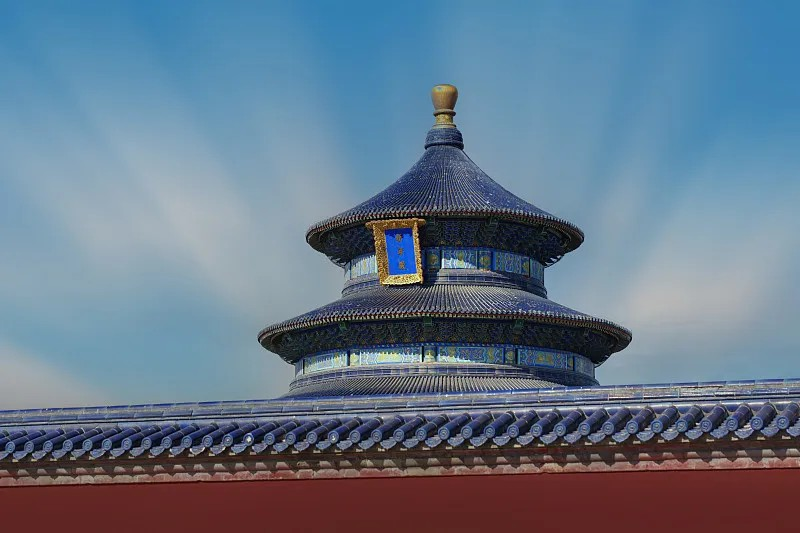Heaven: (257, 84, 636, 390)
